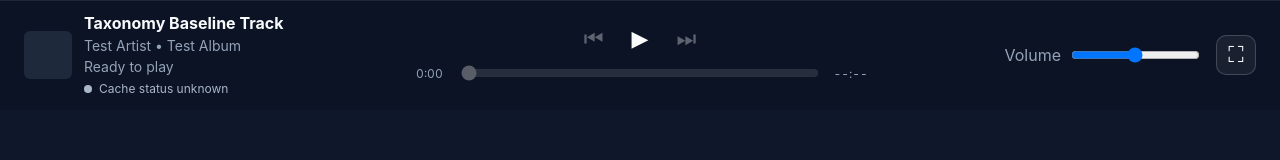
Scenario: SCRUM-267 protected-stream failure taxonomy › records successful protected playback as the baseline
Check: the text "Taxonomy Baseline Track" is shown, box [84,13,284,33]
Check: the message reads "Ready to play", box [84,58,174,75]
Click the button named "Play" at (640, 39), box [626,25,654,53]
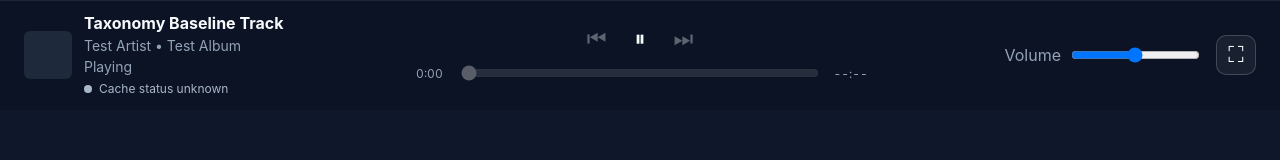
Check: the message reads "Playing", box [84,58,132,75]
